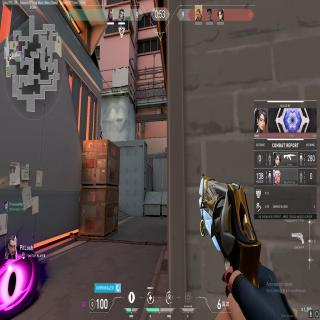ENEMY-BODY: (100, 125, 102, 140)
ENEMY-HEAD: (100, 126, 102, 129)
